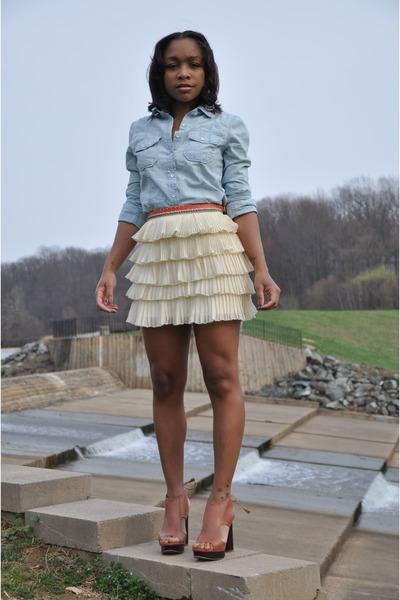shirt: (118, 104, 257, 227)
shoe: (160, 482, 234, 561)
skirt: (125, 211, 251, 326)
